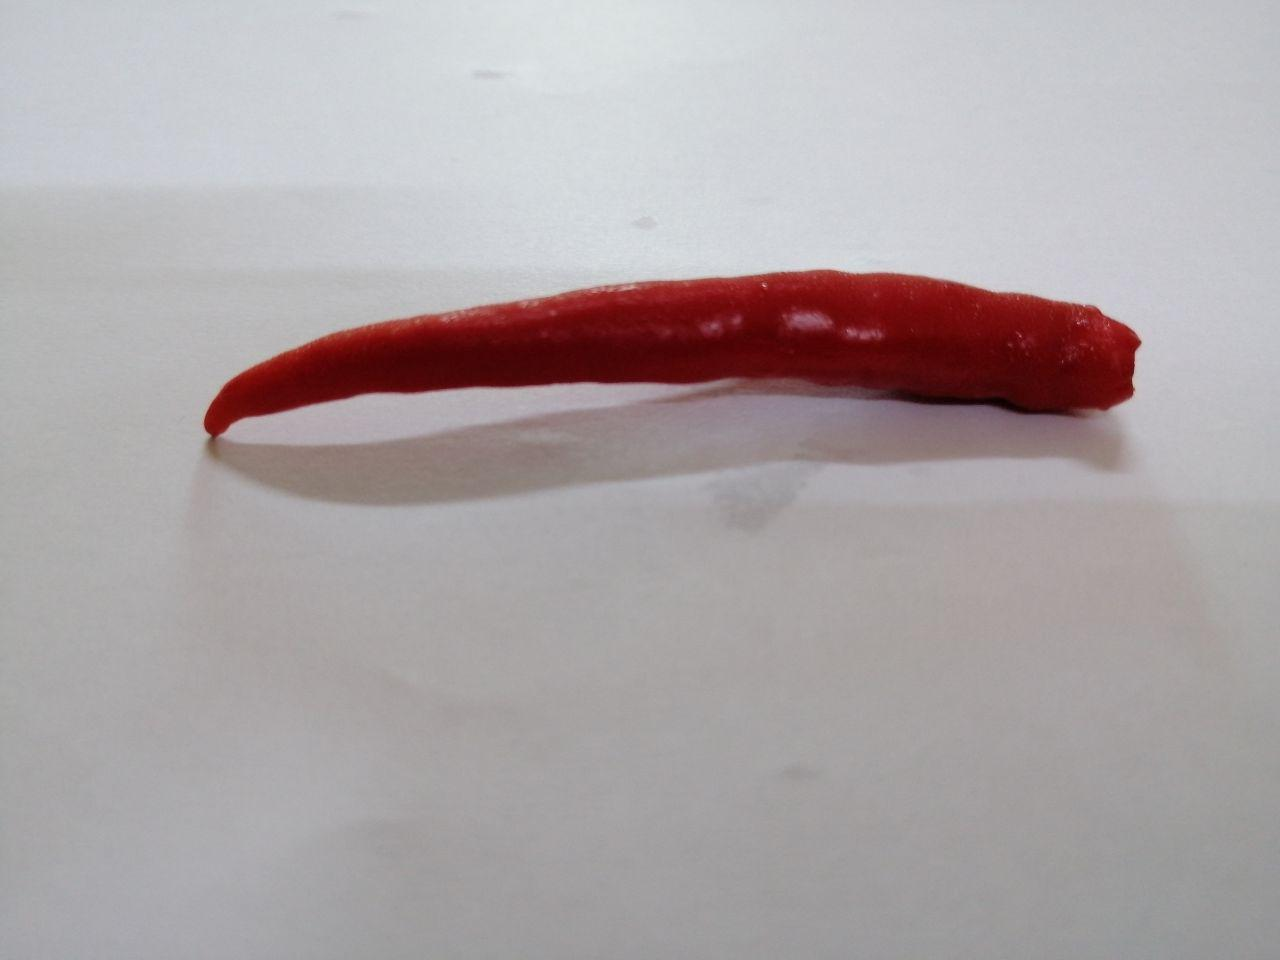lada merah: (181, 228, 1168, 503)
